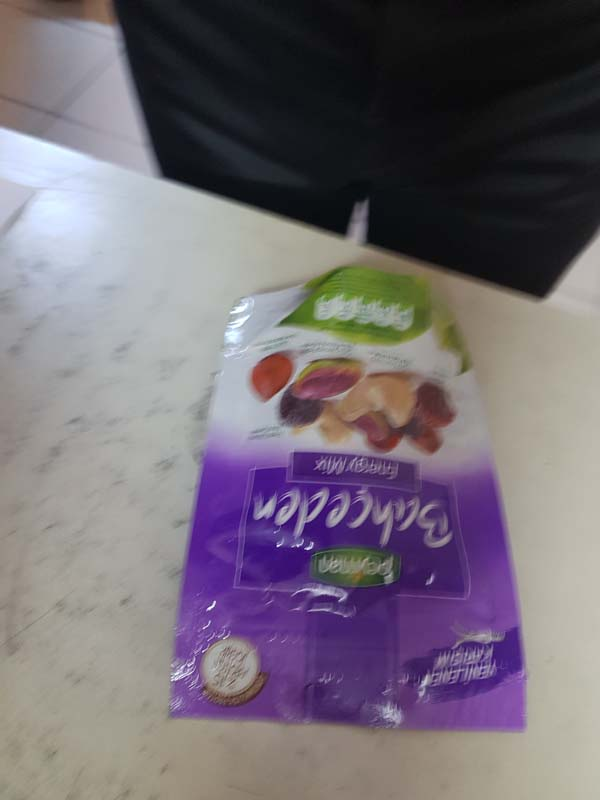bahcedenenergymix: (161, 260, 537, 747)
